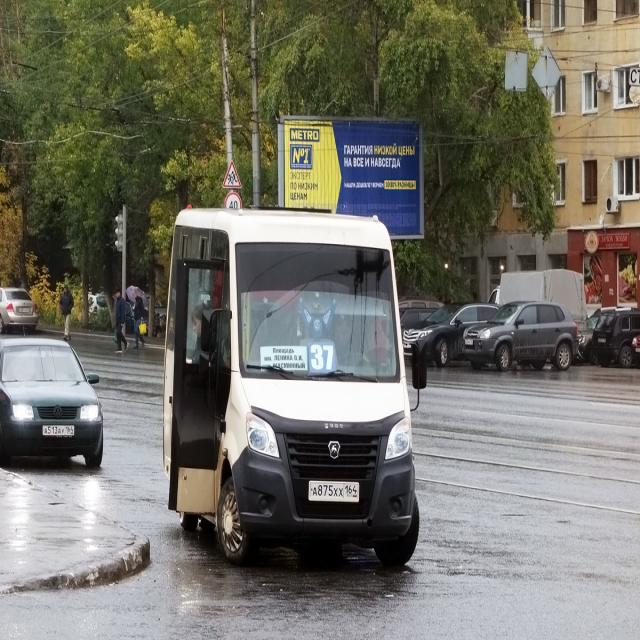number-of-bus: (311, 345, 338, 374)
